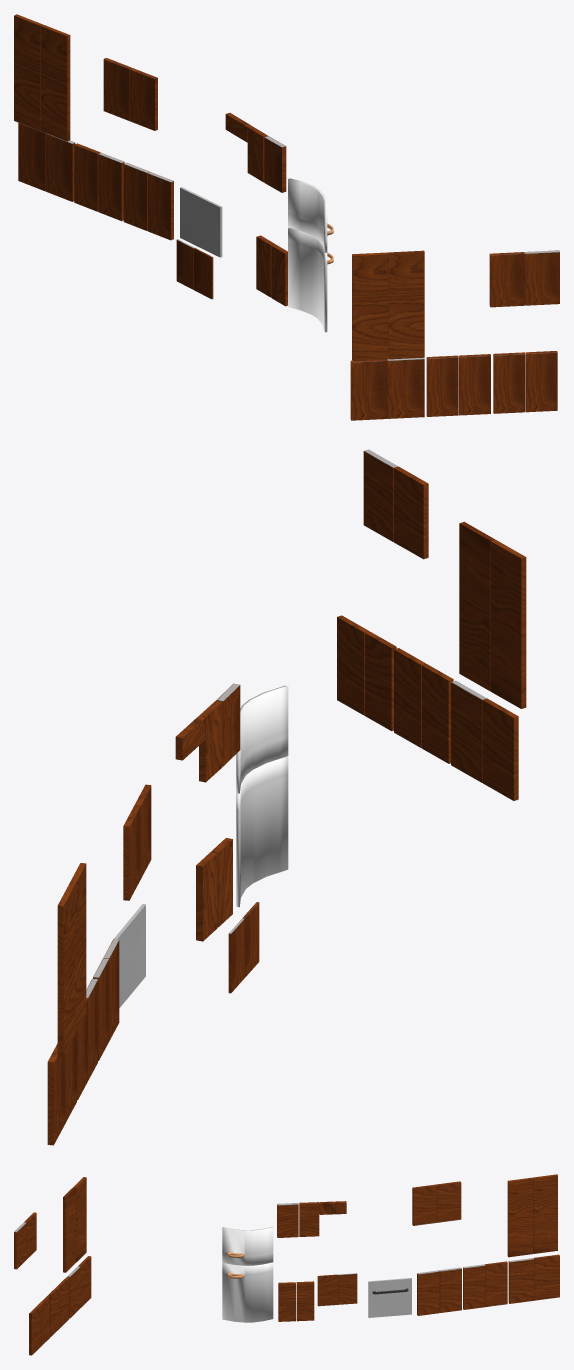
Rendered from mesh_80_kitchen_bits.glb.
3 renders of one model, top to bottom at view 1: azimuth 30°, elevation 25°; view 2: azimuth 150°, elevation 25°; view 3: azimuth 270°, elevation 25°, orthographic. The views are drawn at different scales.
Visible parts, largest first — view 1: mesh_Cupboard_49.002, mesh_Cupboard_40.002, mesh_Fridge_2_Door.002, mesh_Cupboard_30.002, mesh_Cupboard_39.002, mesh_Cupboard_48.002, mesh_Cupboard_47.002, mesh_Oven_2_Door.002, mesh_Fridge_2_Drawer.002, mesh_Cupboard_44.002, mesh_Cupboard_46.002, mesh_Cupboard_43.002 (+17 smaller); view 2: mesh_Fridge_2_Door.002, mesh_Cupboard_49.002, mesh_Cupboard_40.002, mesh_Fridge_2_Drawer.002, mesh_Cupboard_48.002, mesh_Cupboard_39.002, mesh_Cupboard_47.002, mesh_Cupboard_41.002, mesh_Cupboard_44.002, mesh_Cupboard_46.002, mesh_Cupboard_43.002, mesh_Cupboard_45.002 (+17 smaller); view 3: mesh_Fridge_2_Door.002, mesh_Cupboard_30.002, mesh_Cupboard_39.002, mesh_Fridge_2_Drawer.002, mesh_Oven_2_Door.002, mesh_Cupboard_37.002, mesh_Cupboard_38.002, mesh_Cupboard_40.002, mesh_Cupboard_35.002, mesh_Cupboard_33.002, mesh_Cupboard_34.002, mesh_Cupboard_36.002 (+18 smaller).
Boxes of the visible parts, bbox=[...] form: mesh_Cupboard_49.002: bbox=[352, 252, 388, 361]; mesh_Cupboard_40.002: bbox=[388, 250, 424, 359]; mesh_Fridge_2_Door.002: bbox=[288, 228, 333, 332]; mesh_Cupboard_30.002: bbox=[41, 25, 70, 141]; mesh_Cupboard_39.002: bbox=[14, 14, 42, 130]; mesh_Cupboard_48.002: bbox=[350, 359, 387, 420]; mesh_Cupboard_47.002: bbox=[387, 357, 424, 418]; mesh_Oven_2_Door.002: bbox=[180, 187, 222, 257]; mesh_Fridge_2_Drawer.002: bbox=[288, 178, 333, 252]; mesh_Cupboard_44.002: bbox=[493, 352, 525, 413]; mesh_Cupboard_46.002: bbox=[426, 355, 458, 416]; mesh_Cupboard_43.002: bbox=[525, 351, 557, 412]; mesh_Fridge_2_Door.002: bbox=[236, 756, 288, 907]; mesh_Cupboard_49.002: bbox=[490, 539, 526, 708]; mesh_Cupboard_40.002: bbox=[459, 521, 494, 691]; mesh_Fridge_2_Drawer.002: bbox=[236, 685, 288, 793]; mesh_Cupboard_48.002: bbox=[482, 698, 518, 800]; mesh_Cupboard_39.002: bbox=[57, 884, 74, 1056]; mesh_Cupboard_47.002: bbox=[451, 680, 486, 782]; mesh_Cupboard_41.002: bbox=[394, 466, 428, 559]; mesh_Cupboard_44.002: bbox=[364, 631, 396, 731]; mesh_Cupboard_46.002: bbox=[421, 664, 453, 763]; mesh_Cupboard_43.002: bbox=[337, 615, 368, 715]; mesh_Cupboard_45.002: bbox=[394, 648, 425, 747]; mesh_Fridge_2_Door.002: bbox=[222, 1262, 273, 1322]; mesh_Cupboard_30.002: bbox=[507, 1177, 532, 1257]; mesh_Cupboard_39.002: bbox=[533, 1174, 557, 1253]; mesh_Fridge_2_Drawer.002: bbox=[222, 1227, 273, 1265]; mesh_Oven_2_Door.002: bbox=[368, 1278, 411, 1317]; mesh_Cupboard_37.002: bbox=[508, 1258, 534, 1303]; mesh_Cupboard_38.002: bbox=[534, 1254, 559, 1300]; mesh_Cupboard_40.002: bbox=[63, 1187, 75, 1272]; mesh_Cupboard_35.002: bbox=[463, 1264, 485, 1309]; mesh_Cupboard_33.002: bbox=[417, 1270, 439, 1315]; mesh_Cupboard_34.002: bbox=[439, 1267, 461, 1312]; mesh_Cupboard_36.002: bbox=[485, 1261, 507, 1306].
Bounding box in the file's own units: 2.56 × 2.36 × 9.61.
1 material, 1 textured.
